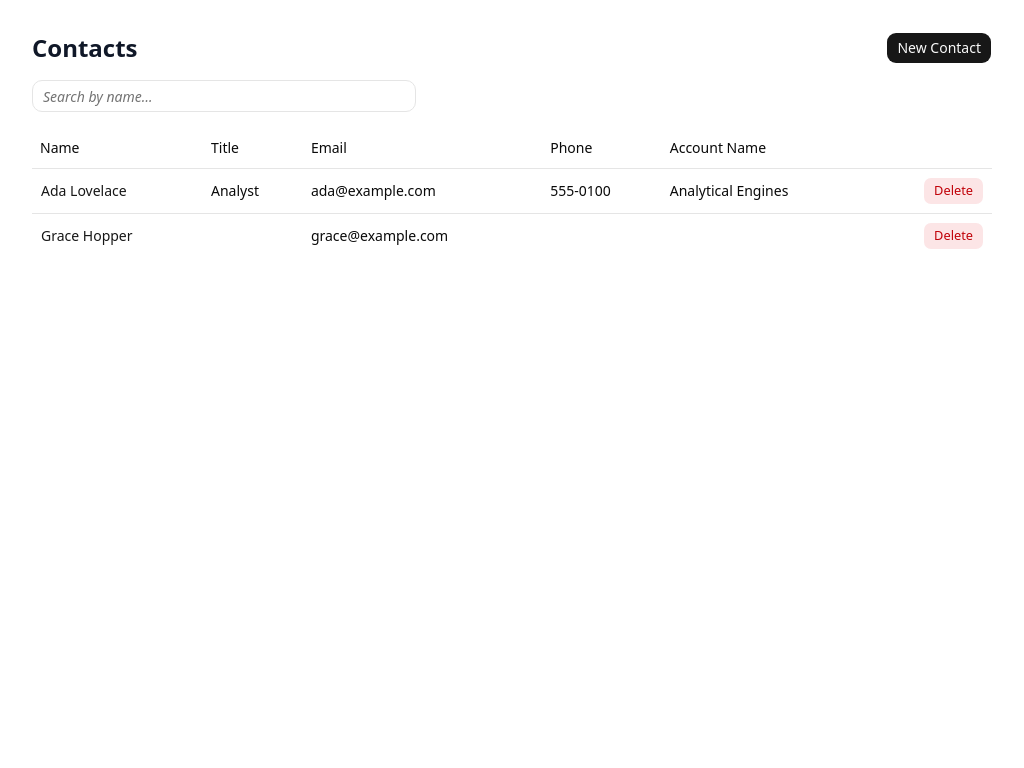
Scenario: ContactsPage › deletes a contact from its row after confirmation
Expected: the button "Ada Lovelace" is shown, [40,180,128,202]
Click the button with aria-label "Delete Ada Lovelace": (954, 190) [923,176,984,204]
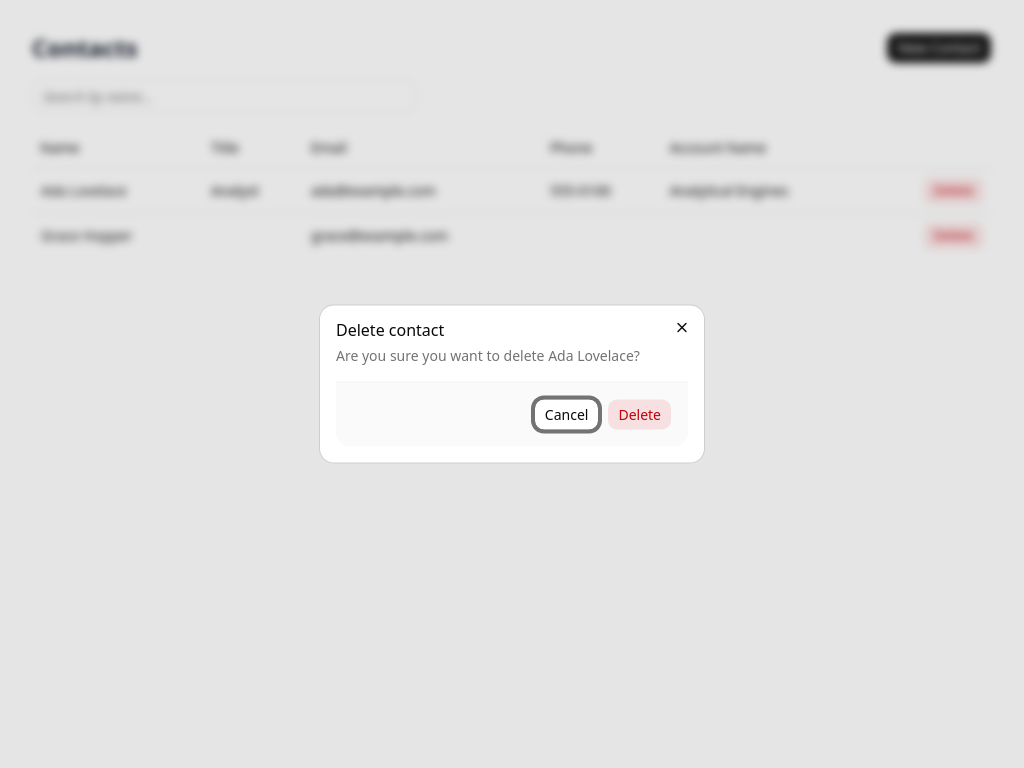
Click the button "Delete": (640, 414) [607,398,672,430]
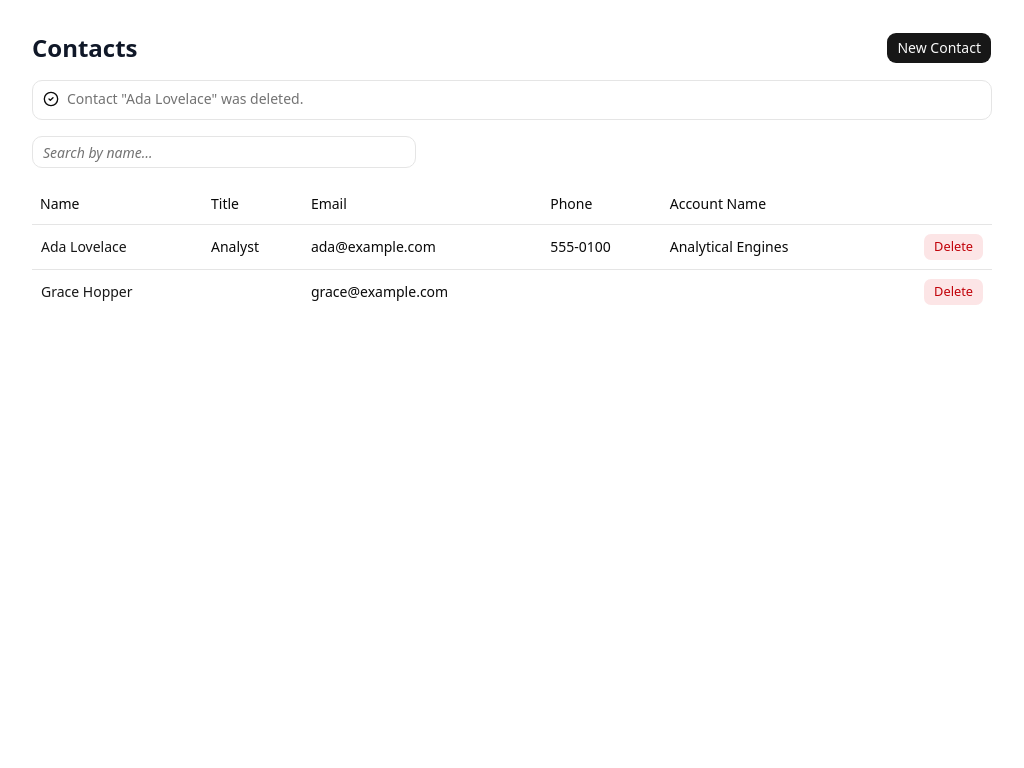
Expected: the text "Contact \"Ada Lovelace\" was deleted." is shown, [67,89,303,108]
Expected: the dialog is gone
